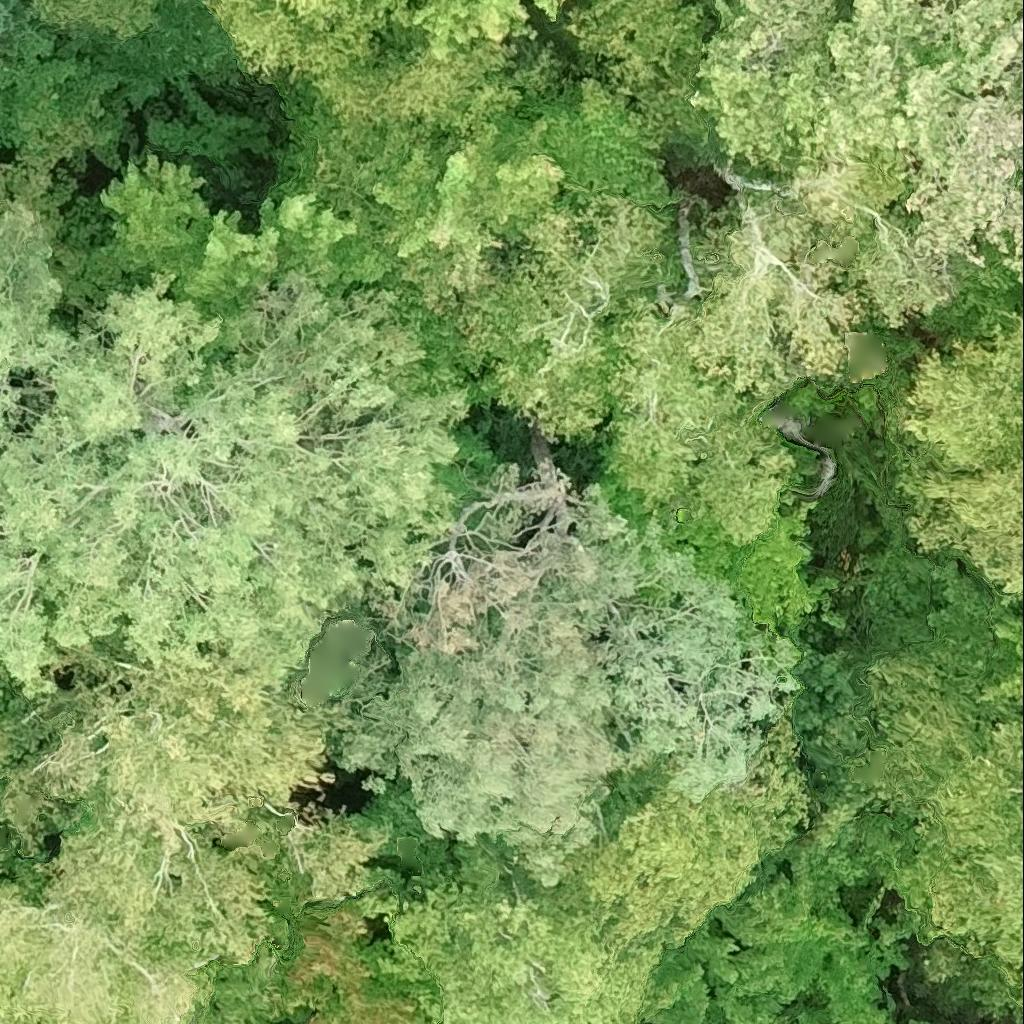crown: (0, 198, 470, 702), (340, 465, 804, 885), (0, 634, 387, 964), (341, 72, 689, 410), (662, 178, 887, 547), (195, 0, 558, 213), (799, 0, 1023, 283), (636, 809, 908, 1023), (573, 716, 811, 952), (0, 841, 301, 1023), (453, 188, 663, 439), (385, 863, 687, 1023), (172, 187, 390, 406), (808, 642, 1023, 851), (843, 795, 1023, 1023), (778, 138, 963, 330), (596, 295, 739, 506), (689, 0, 854, 178), (53, 156, 214, 332), (0, 25, 175, 169), (273, 884, 442, 1023), (565, 0, 723, 148), (880, 456, 1023, 600), (900, 307, 1023, 474), (0, 132, 117, 246), (732, 512, 827, 633), (388, 0, 537, 60), (0, 667, 43, 820), (979, 589, 1023, 702), (27, 0, 165, 35), (800, 997, 891, 1023), (0, 0, 33, 57), (286, 0, 340, 14), (531, 0, 563, 18), (911, 1015, 931, 1023)
